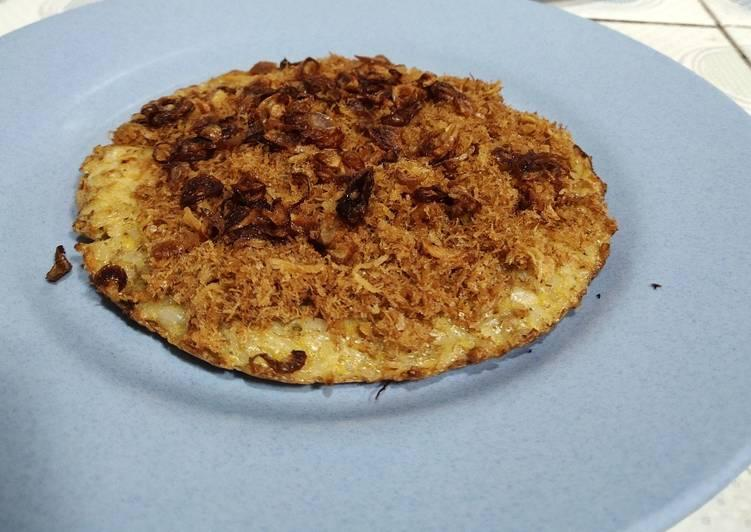kerak_telor: (75, 56, 618, 388)
